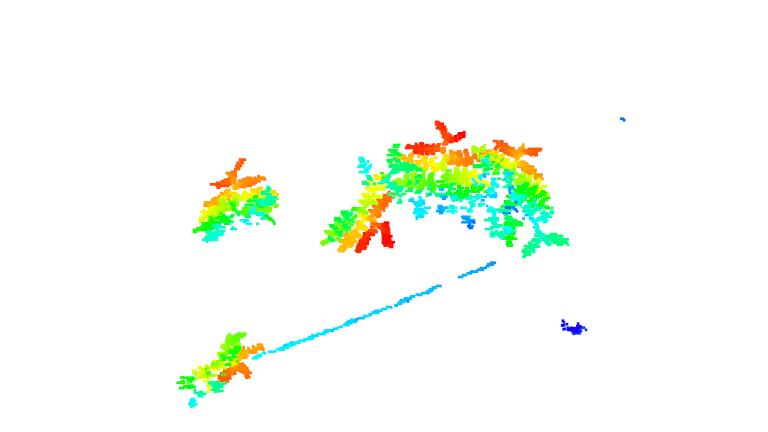chickpea: (473, 138, 573, 261), (391, 118, 485, 229), (191, 155, 281, 245), (319, 156, 396, 256), (176, 330, 267, 407)
